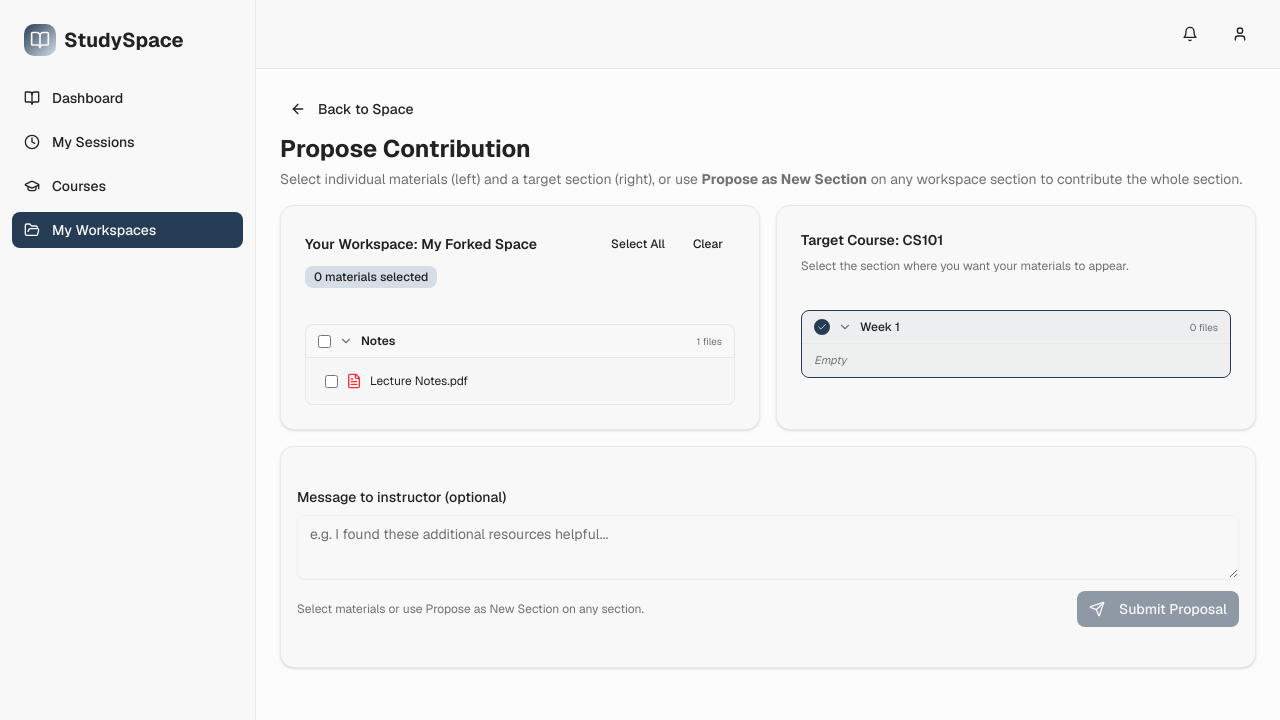
Test: ProposalPage — FR-02 Merge Proposal Submission › calls contributionsApi.submit with correct payload and shows success card
Check: the text "Lecture Notes.pdf" is shown, box [370, 373, 468, 389]
Select the material (last checkbox)
Click the checkbox labelled "Lecture Notes.pdf" at [332, 381], box [325, 374, 338, 388]
(page scrolled)
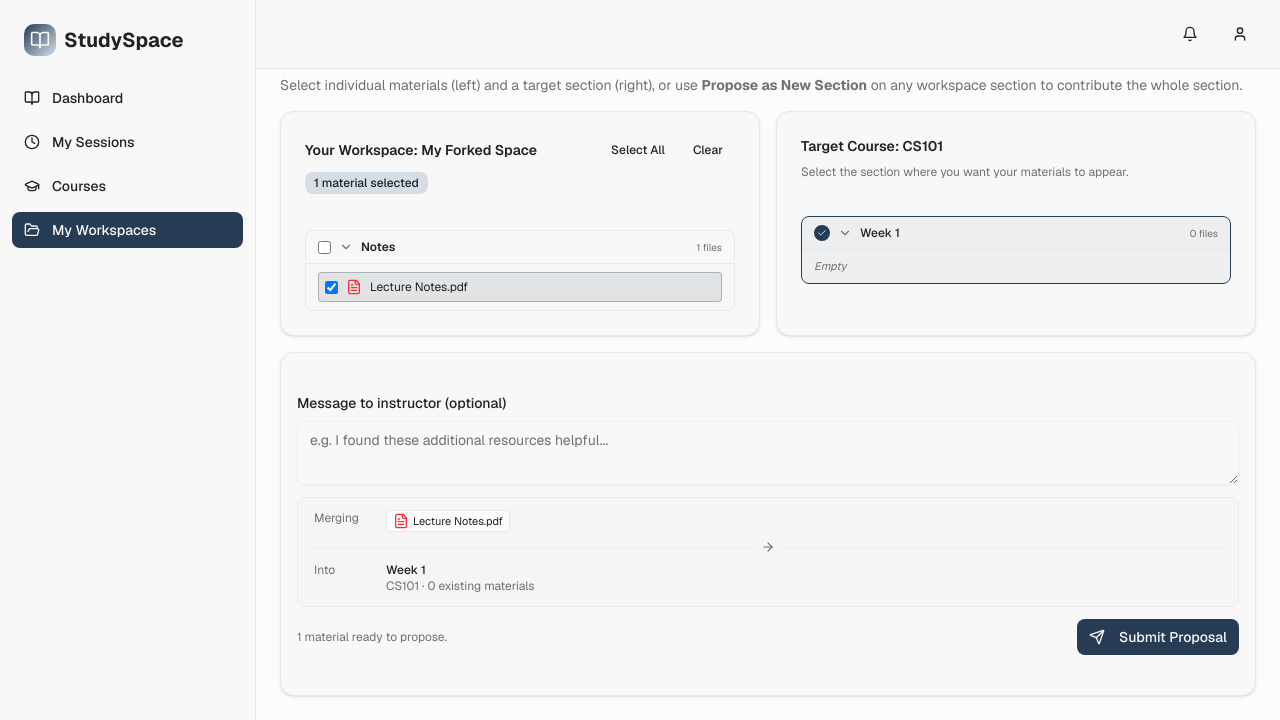
Check: the button "Submit Proposal" is enabled
Click the button "Submit Proposal" at [1158, 637], box [1077, 619, 1239, 655]
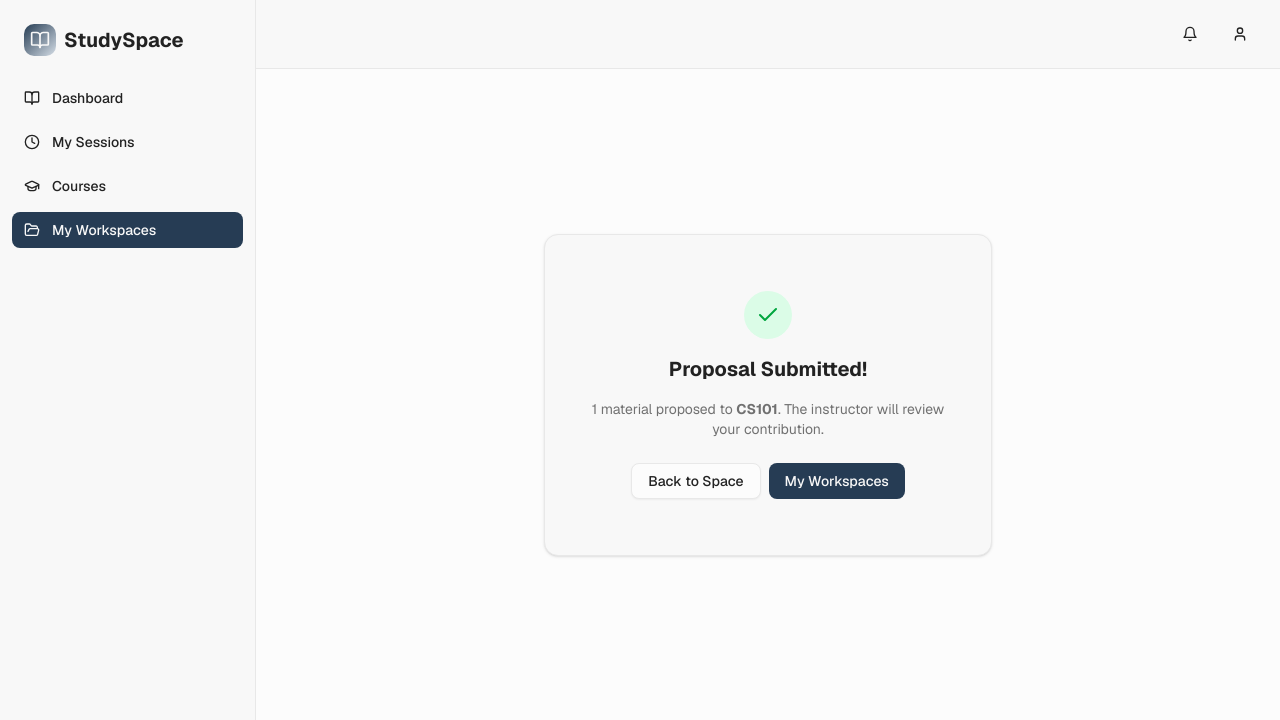
Check: the heading "Proposal Submitted!" is shown, box [669, 356, 867, 382]
